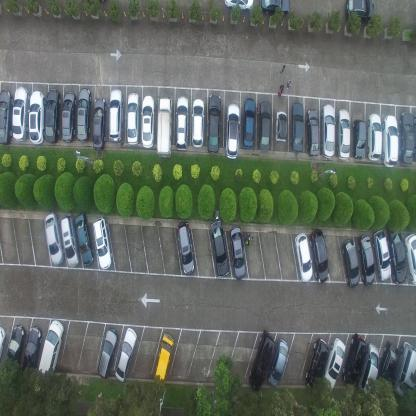car: (248, 328, 276, 392), (38, 319, 63, 380), (342, 331, 368, 387), (322, 336, 346, 394), (114, 327, 138, 383), (305, 337, 329, 392), (385, 224, 407, 283), (392, 343, 416, 397), (377, 341, 400, 393), (20, 326, 42, 379), (96, 327, 118, 380), (357, 341, 379, 394), (92, 215, 113, 270), (73, 210, 93, 266), (210, 219, 229, 277), (154, 332, 174, 386), (156, 96, 173, 159), (44, 212, 63, 268), (310, 228, 329, 284), (267, 339, 289, 387), (12, 84, 30, 142), (60, 213, 78, 268), (5, 323, 24, 374), (177, 220, 195, 273), (294, 230, 312, 283), (357, 233, 375, 286), (373, 229, 391, 282), (228, 224, 245, 280), (44, 87, 61, 143), (28, 90, 45, 146), (341, 238, 360, 288), (224, 102, 240, 160), (206, 94, 221, 154), (76, 87, 92, 143), (108, 88, 123, 145), (61, 90, 77, 143), (320, 102, 335, 158), (344, 0, 375, 27), (336, 108, 352, 160), (400, 110, 414, 167), (383, 115, 398, 168), (92, 96, 106, 152), (0, 88, 13, 147), (176, 94, 189, 152), (367, 112, 382, 162), (290, 100, 304, 153), (305, 108, 320, 157), (141, 94, 154, 149), (242, 98, 256, 149), (191, 98, 205, 148), (126, 90, 138, 146), (259, 99, 271, 152), (404, 232, 416, 285), (352, 118, 366, 160), (259, 0, 291, 17), (275, 109, 287, 144), (223, 0, 254, 11), (0, 325, 6, 365)
